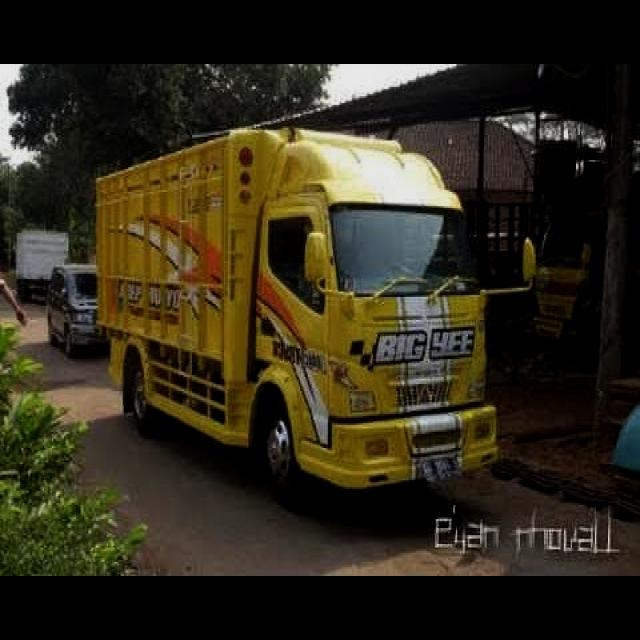truck: (96, 126, 538, 517)
